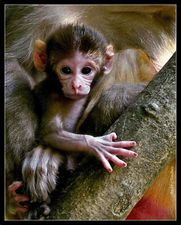monkey: (16, 14, 149, 177)
